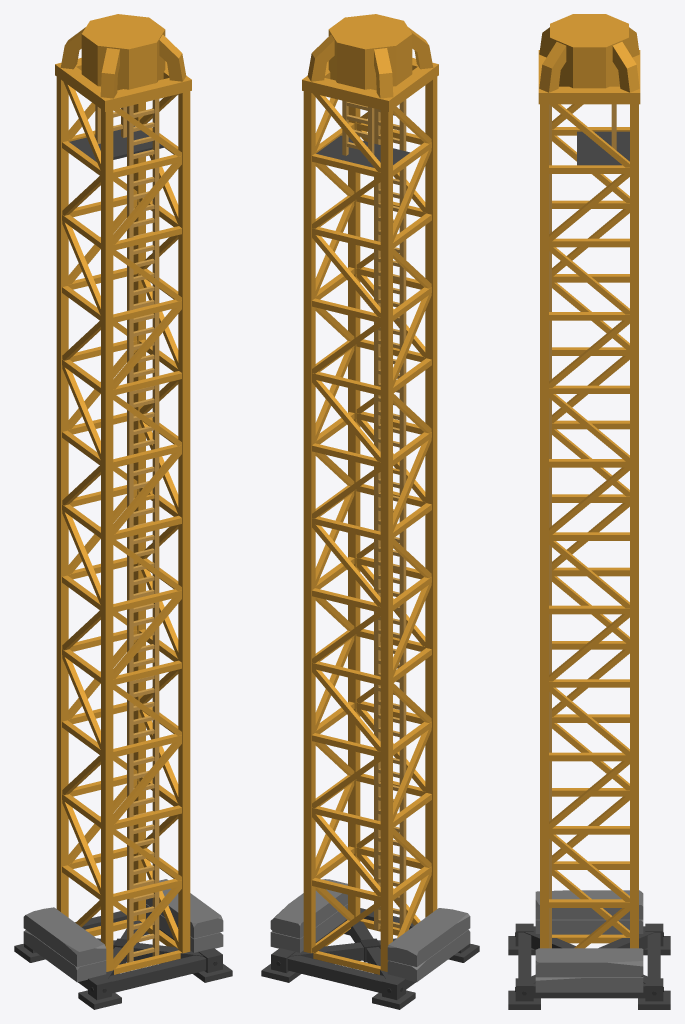
Rendered from TowerCrane_01.fbx.
The picture shows the model from 3 angles, left to right: view 1: azimuth 30°, elevation 25°; view 2: azimuth 150°, elevation 25°; view 3: azimuth 270°, elevation 25°; orthographic projection.
Parts seen in each view (by area): view 1: TowerCrane_01; view 2: TowerCrane_01; view 3: TowerCrane_01.
Boxes of the visible parts, x1=… form: TowerCrane_01: x1=14, y1=14, x2=232, y2=1009; TowerCrane_01: x1=261, y1=14, x2=479, y2=1009; TowerCrane_01: x1=508, y1=14, x2=670, y2=1009.
Size of the model in its own units: 264 by 1609 by 250.
